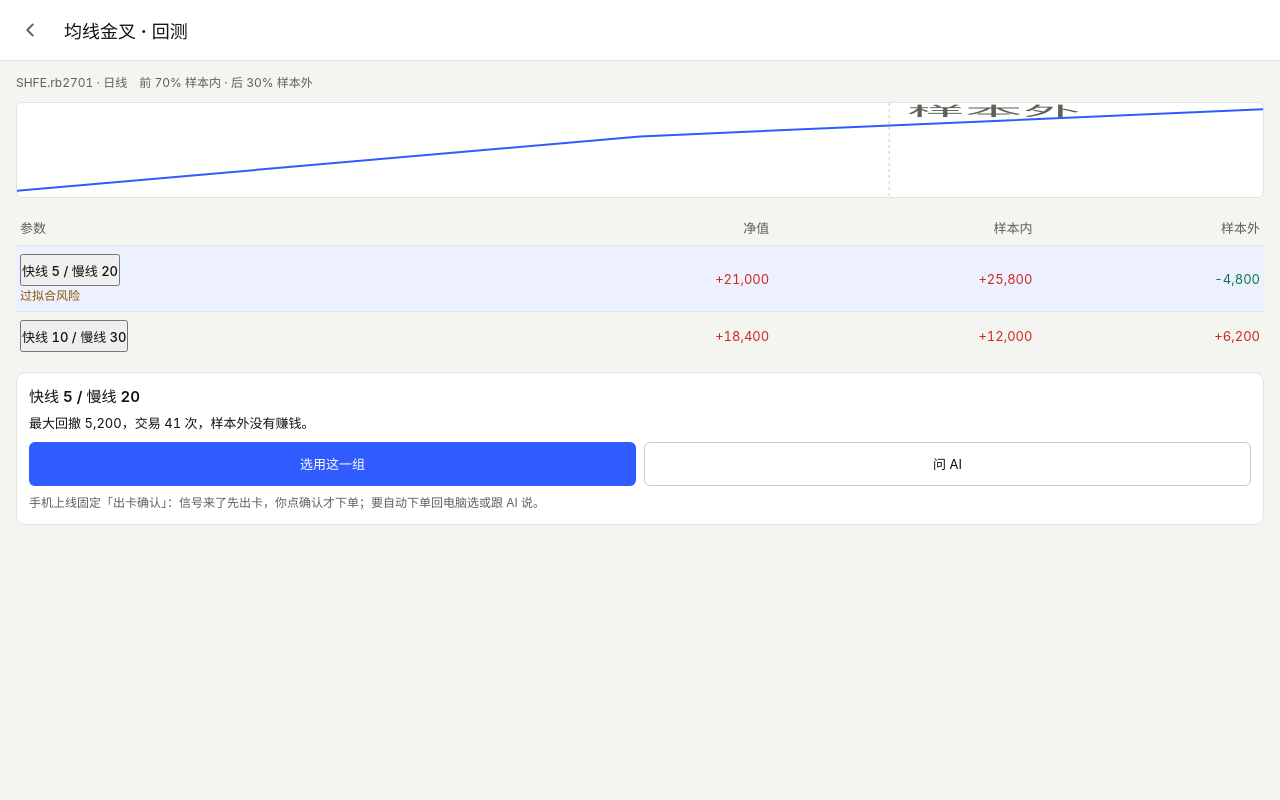
Scenario: 回测结果页：净值曲线带样本内外分界，几组参数的净值 / 样本内 / 样本外，过拟合风险标出；选用一组后上线固定出卡确认，不出现自动下单
The width and height of the screenshot is (1280, 800).
Check: the text "均线金叉 · 回测" is shown, box [64,17,188,43]
Check: the text "前 70% 样本内 · 后 30% 样本外" is shown, box [139,73,313,90]
# Pick the other group, 选用 it (the server re-runs and saves), then 上线运行.
Click the button "快线 10 / 慢线 30".
click(74, 336)  # box [20,320,128,352]
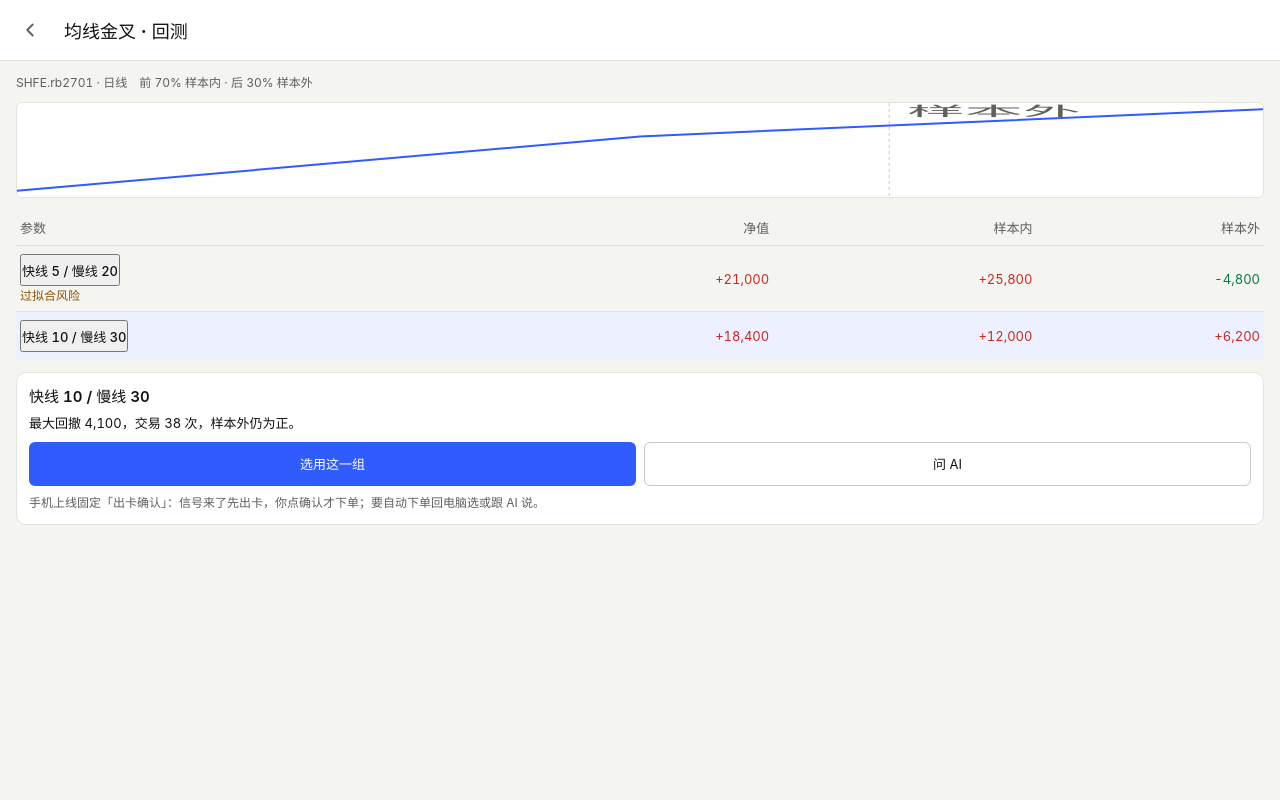
Click the button "选用这一组".
click(332, 464)  # box [29,442,636,486]
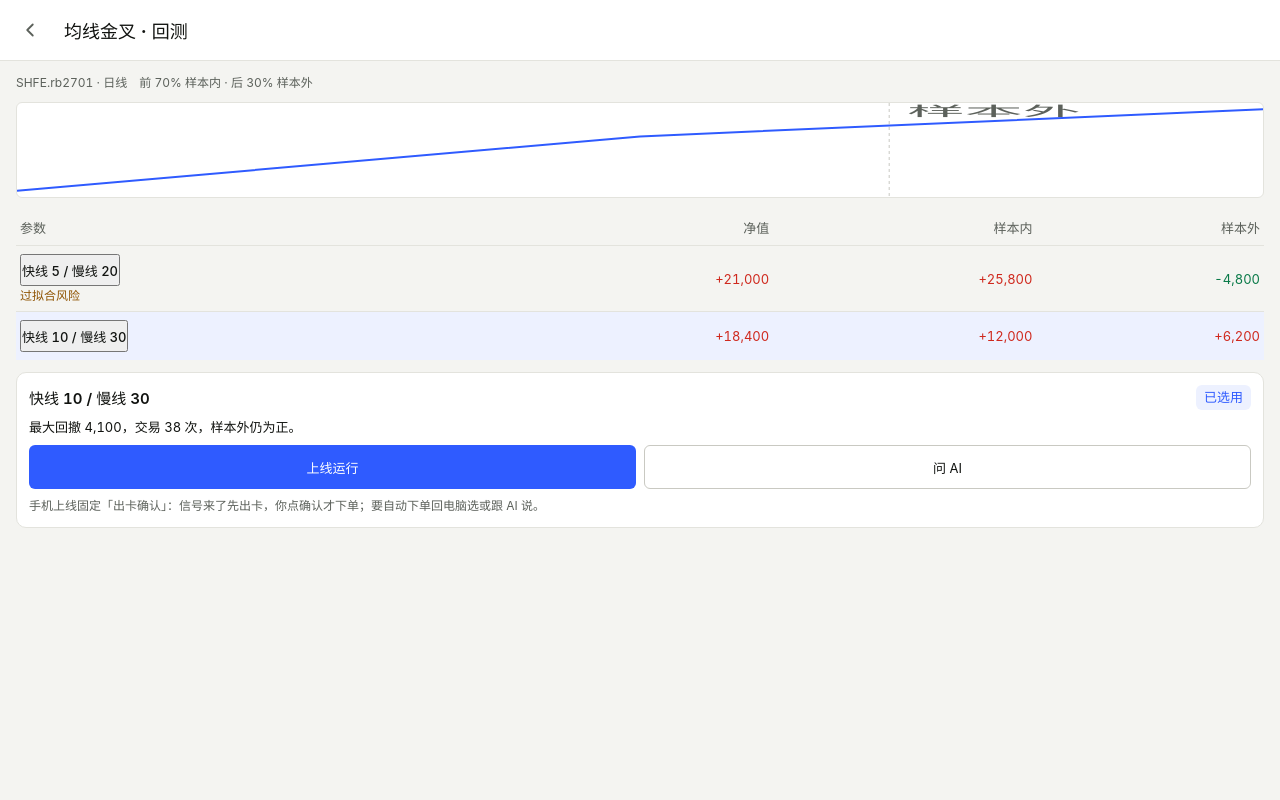
Check: the text "已选用" is shown, box [1196,385,1251,410]
Click the button "上线运行".
click(332, 467)  # box [29,445,636,489]
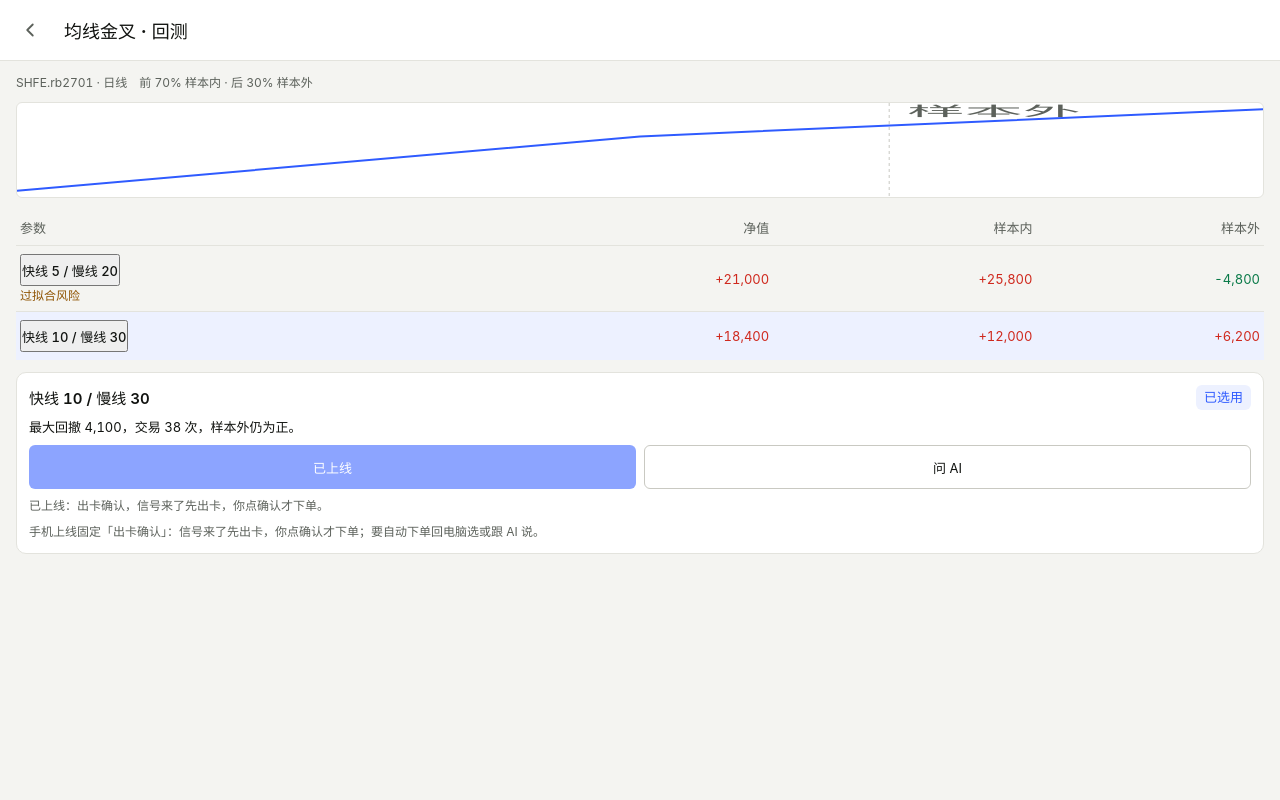
Check: the message shows "已上线：出卡确认", box [29,498,329,513]
Check: the button "已上线" is disabled, box [29,445,636,489]
